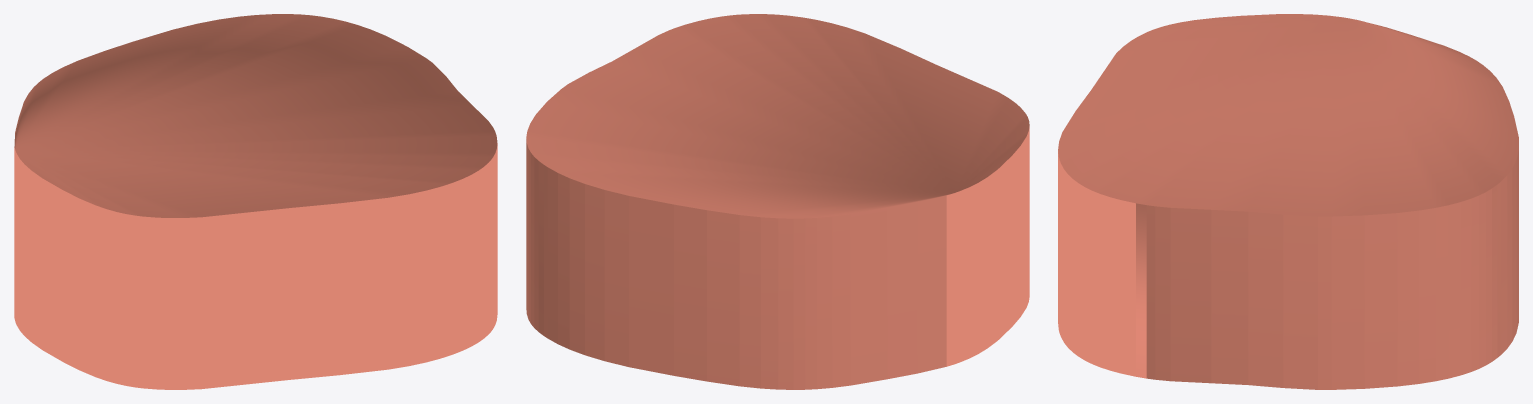
Rendered from ISLAND 1.fbx.
The picture shows the model from 3 angles, left to right: view 1: azimuth 30°, elevation 25°; view 2: azimuth 150°, elevation 25°; view 3: azimuth 270°, elevation 25°; orthographic projection.
Parts seen in each view (by area): view 1: Extrude_3; view 2: Extrude_3; view 3: Extrude_3.
Boxes of the visible parts, <box> form: Extrude_3: <box>14,14,497,389</box>; Extrude_3: <box>526,14,1029,389</box>; Extrude_3: <box>1058,14,1518,389</box>.
Size of the model in its own units: 28655 by 11443 by 27552.
